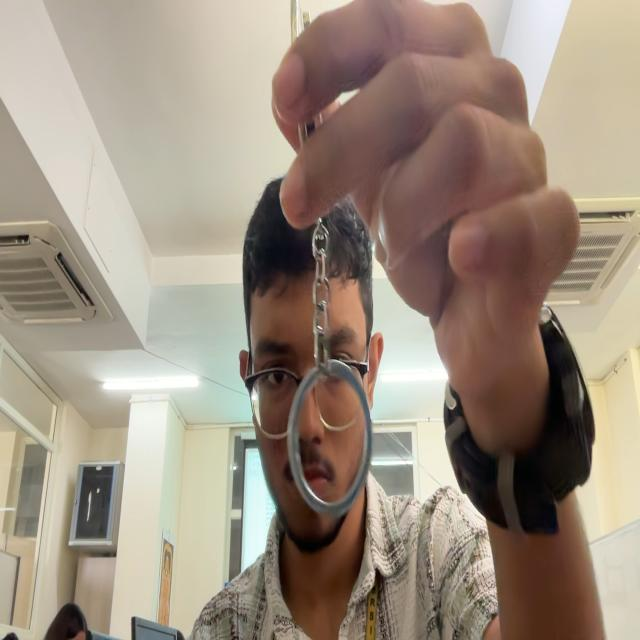dangerous: (287, 219, 372, 517)
